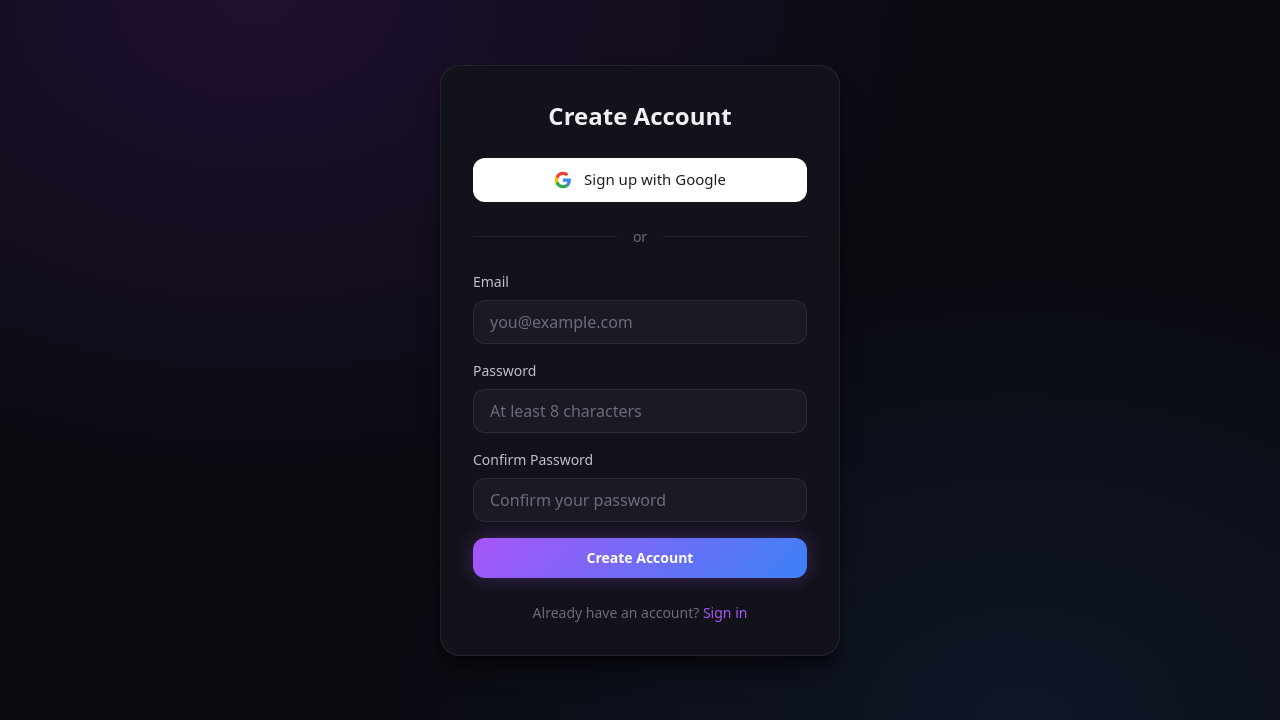
Test case: RegisterPage › form validation › should show error for invalid email format
In the field labelled "Email": (640, 322) top-left (473, 300), bottom-right (807, 344), type "test@localhost"
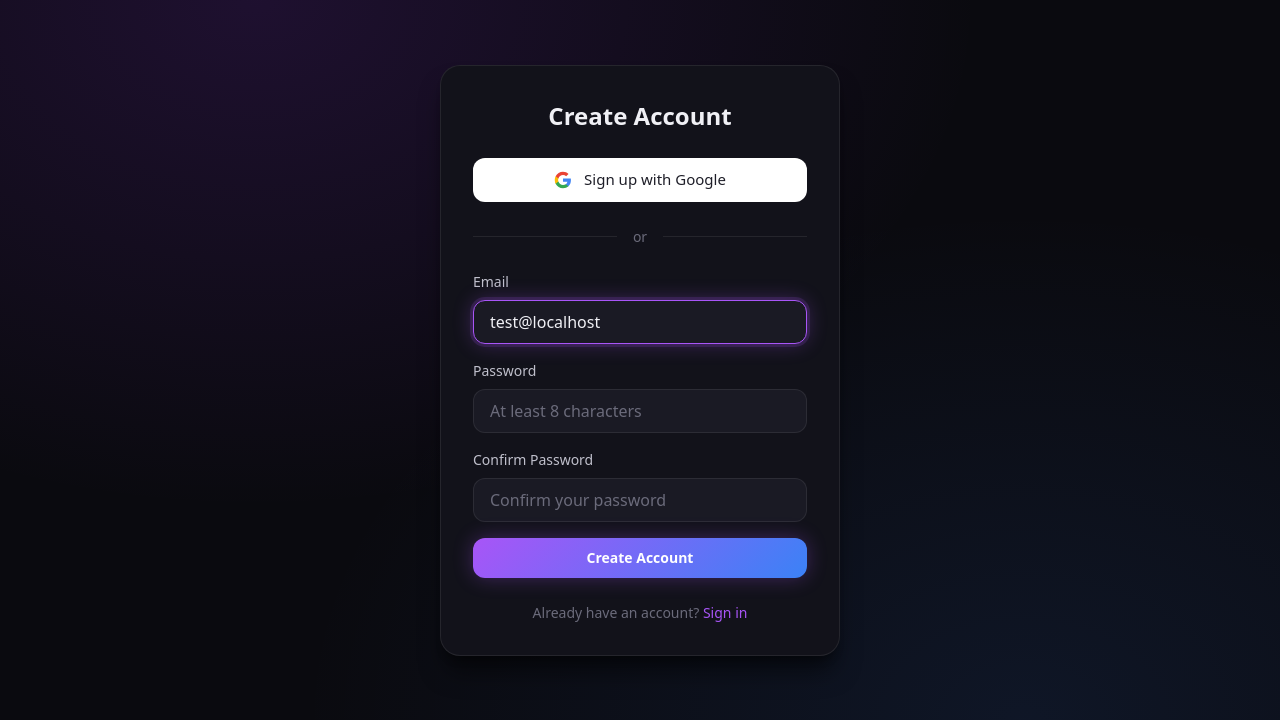
In the password field labelled "Password": (640, 410) top-left (473, 388), bottom-right (807, 432), type "password123"
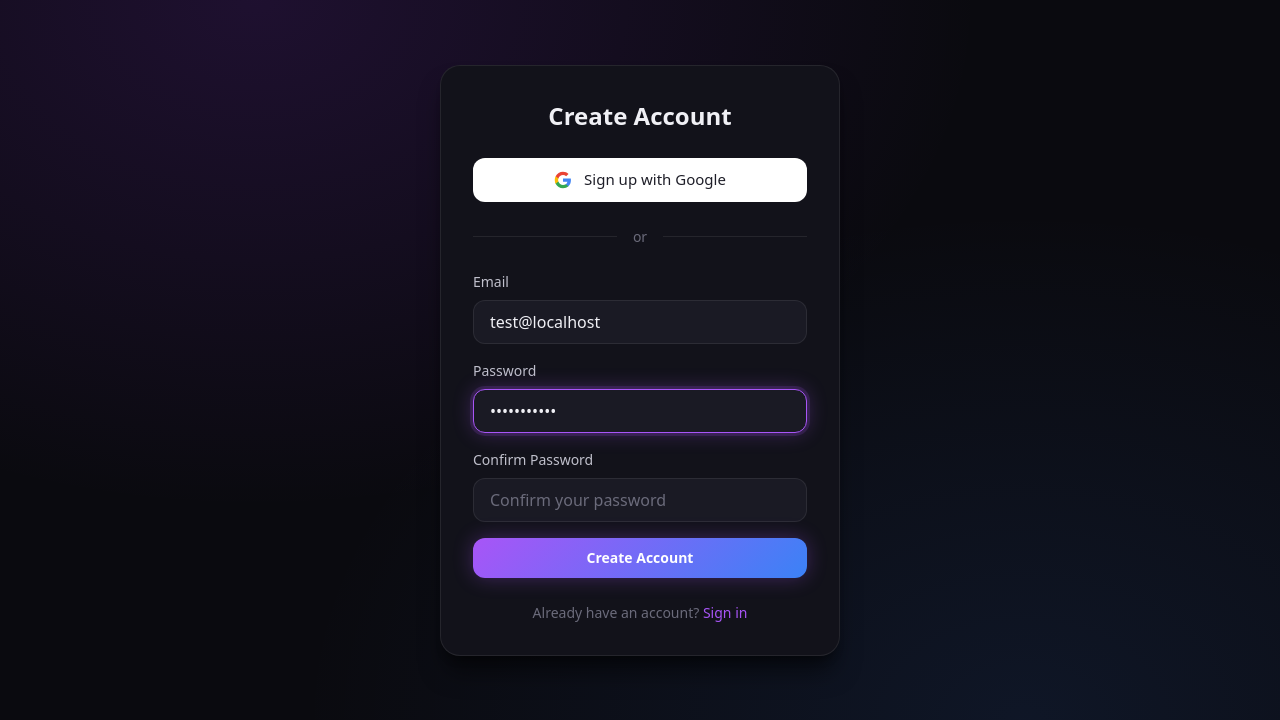
In the password field labelled "Confirm Password": (640, 500) top-left (473, 478), bottom-right (807, 522), type "password123"
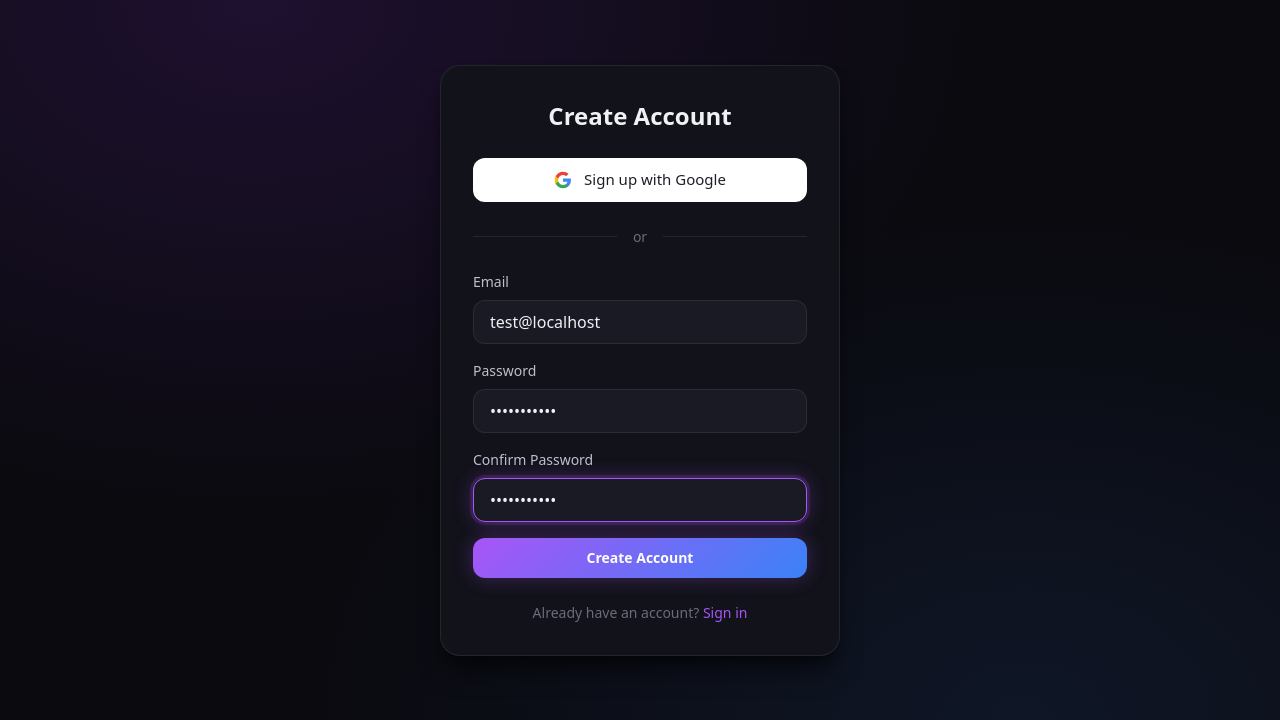
Click the button "Create Account": (640, 558) top-left (473, 538), bottom-right (807, 578)
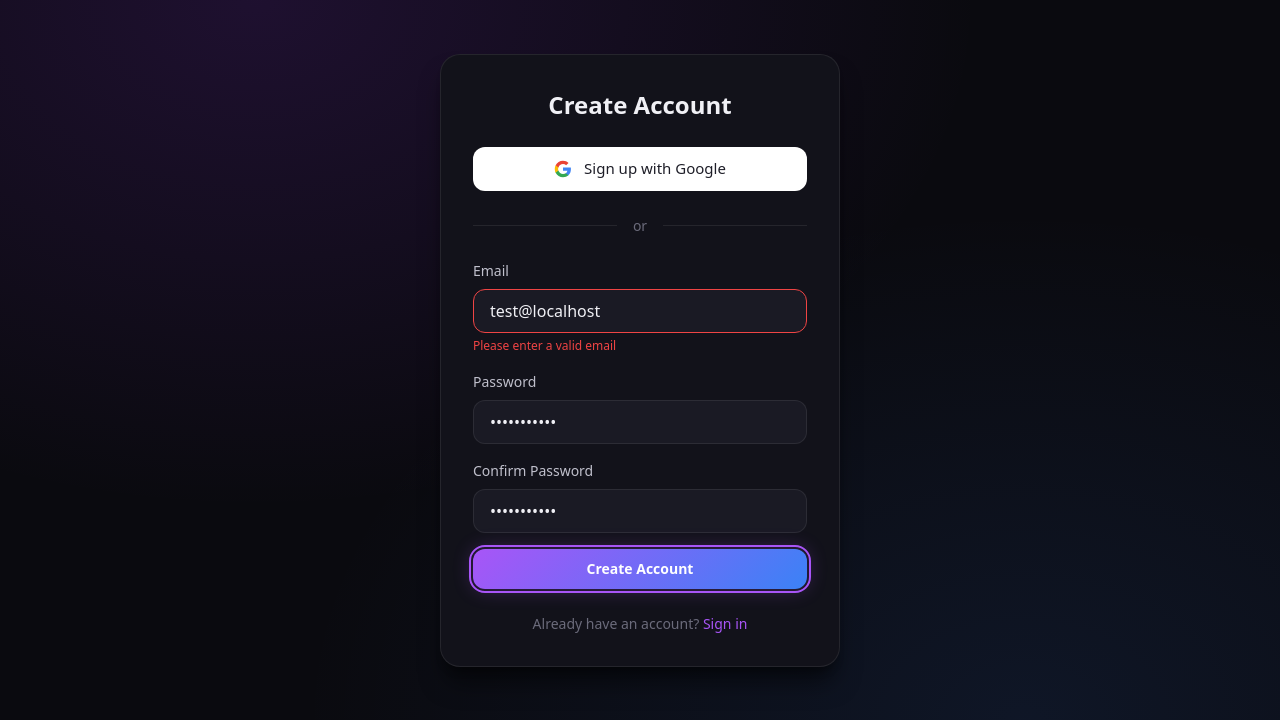
Now the text "Please enter a valid email" is shown, box top-left (473, 336), bottom-right (616, 354)
